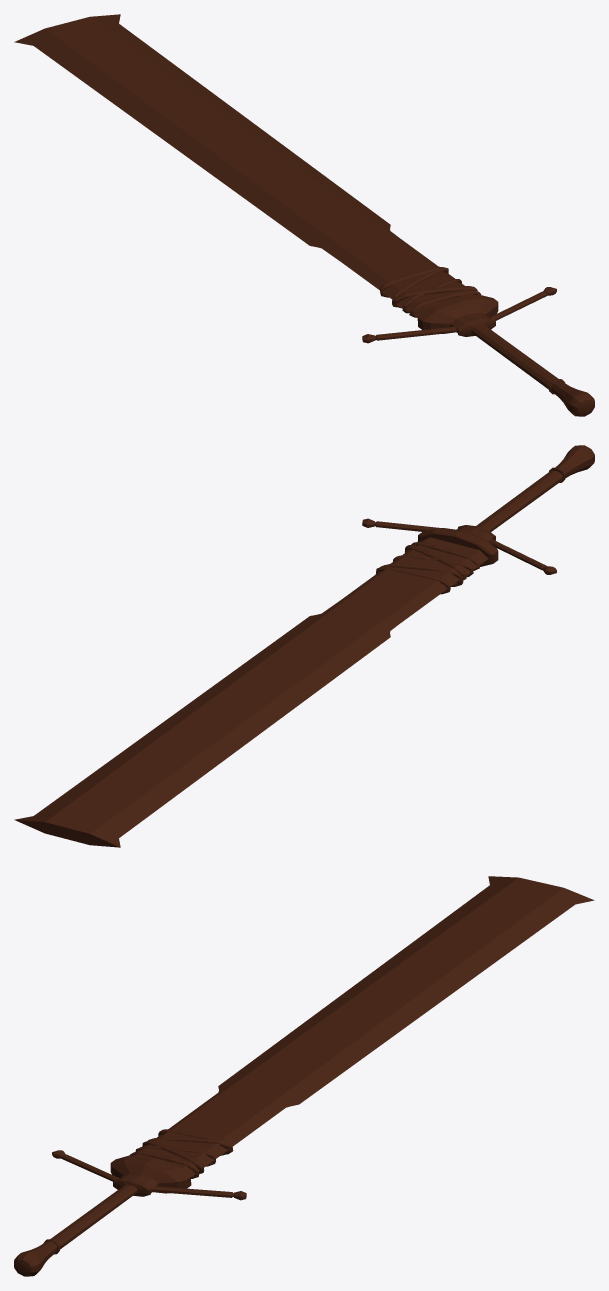
File: OneHeavySword.fbx
The picture shows the model from 3 angles, top to bottom: view 1: azimuth 30°, elevation 25°; view 2: azimuth 150°, elevation 25°; view 3: azimuth 330°, elevation 25°; orthographic projection.
Visible parts, largest first — view 1: Jsword03.001; view 2: Jsword03.001; view 3: Jsword03.001.
Boxes of the visible parts, bbox=[...] form: Jsword03.001: bbox=[14, 14, 594, 416]; Jsword03.001: bbox=[14, 445, 594, 847]; Jsword03.001: bbox=[14, 876, 594, 1276].
Bounding box in the file's own units: 47.8 × 6.88 × 222.
